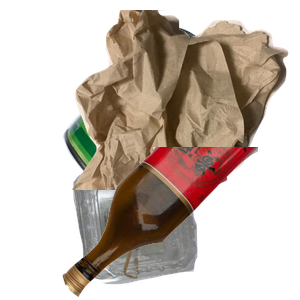glass: (60, 147, 300, 300)
metal: (60, 23, 300, 203)
plastic: (71, 154, 300, 300)
trash: (70, 10, 300, 190)
